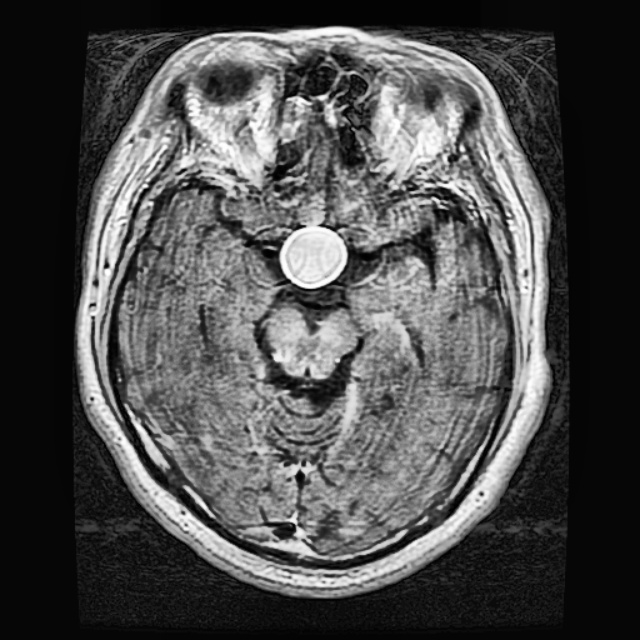Pituitary: (282, 228, 345, 288)
